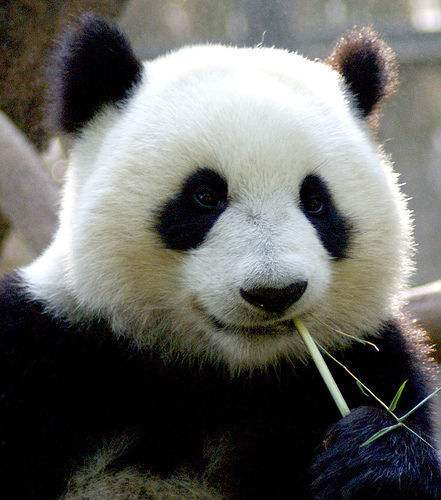panda: (1, 12, 441, 497)
